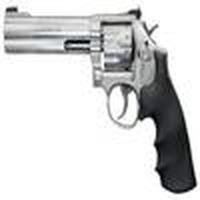gun: (1, 10, 200, 180)
